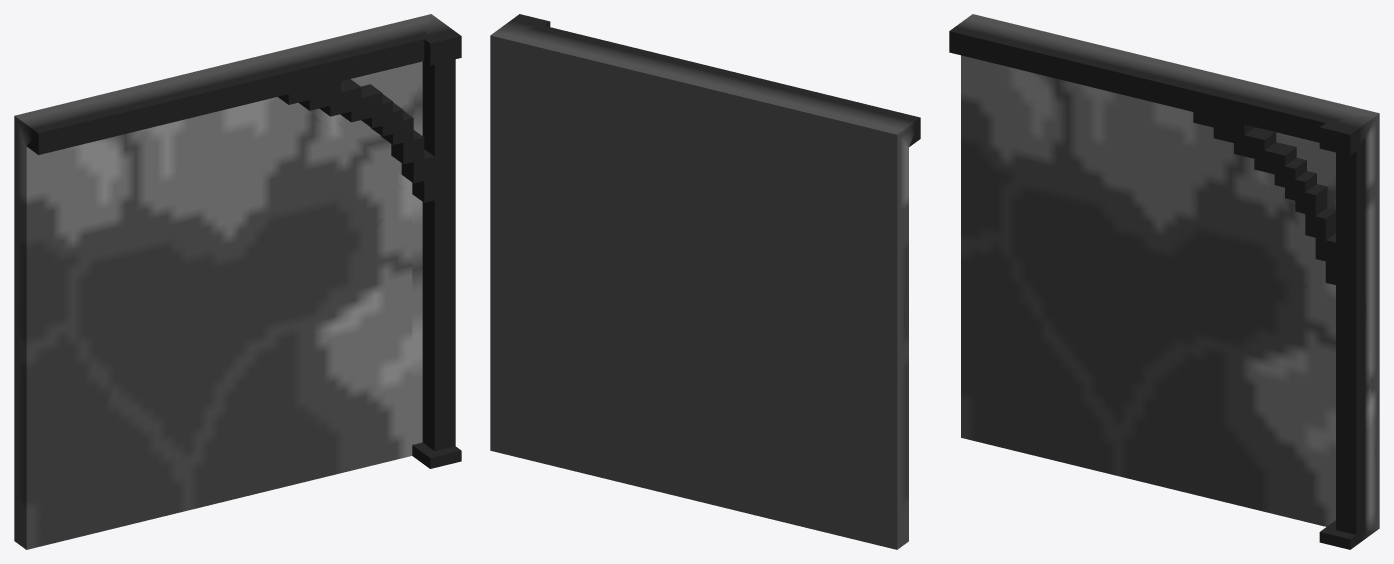
File: WallNether_SR.fbx
3 views of the same model, side by side, from view 1: azimuth 30°, elevation 25°; view 2: azimuth 150°, elevation 25°; view 3: azimuth 330°, elevation 25° (orthographic). The views are drawn at different scales.
Visible parts, largest first — view 1: WallNether_SR.Merged; view 2: WallNether_SR.Merged; view 3: WallNether_SR.Merged.
Boxes of the visible parts, x1,y1,x2,y2 form: WallNether_SR.Merged: (14,14,461,549); WallNether_SR.Merged: (490,14,920,549); WallNether_SR.Merged: (949,14,1379,549).
Bounding box in the file's own units: 8000 × 7800 × 1000.
